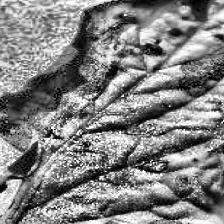Angular Leafspot: (3, 39, 116, 145), (176, 39, 224, 88), (134, 154, 170, 172), (124, 119, 167, 134), (147, 213, 199, 224)
